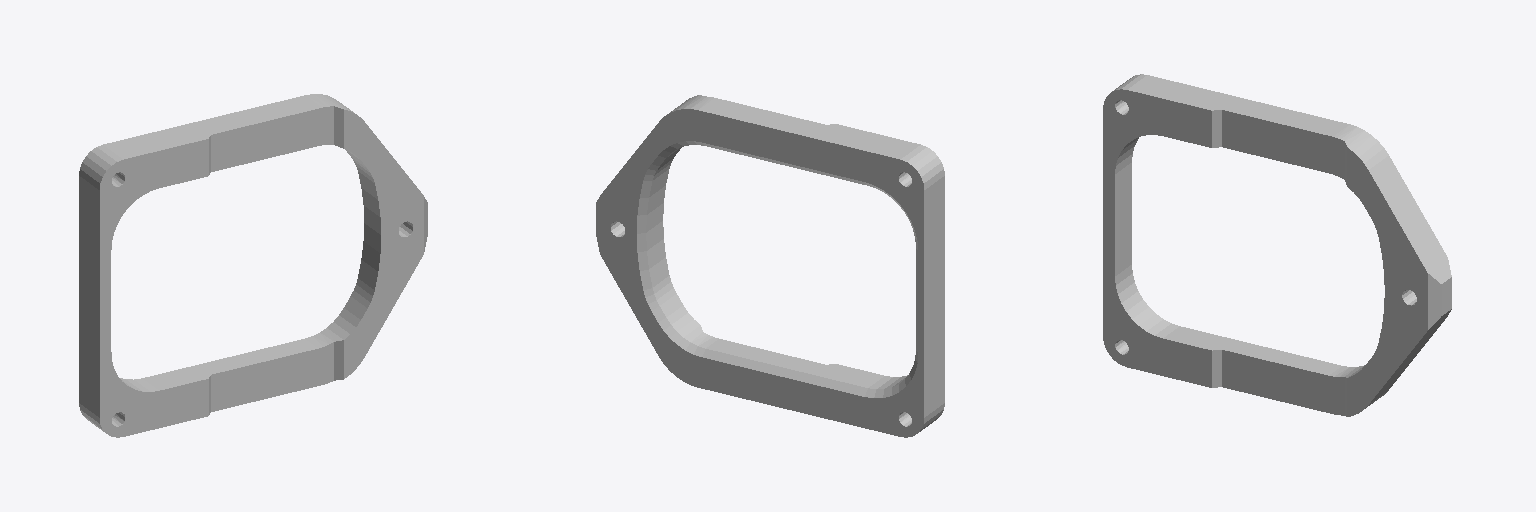
Rendered from XYZ Stage V5_X Stage Part V5.obj.
3 views of the same model, side by side, from view 1: azimuth 30°, elevation 25°; view 2: azimuth 150°, elevation 25°; view 3: azimuth 330°, elevation 25° (orthographic).
Parts seen in each view (by area): view 1: Solid1:9; view 2: Solid1:9; view 3: Solid1:9.
Boxes of the visible parts, x1,y1,x2,y2 form: Solid1:9: [79, 94, 427, 437]; Solid1:9: [596, 95, 944, 437]; Solid1:9: [1103, 74, 1451, 416].
Size of the model in its own units: 69.67 by 55.4 by 7.42.